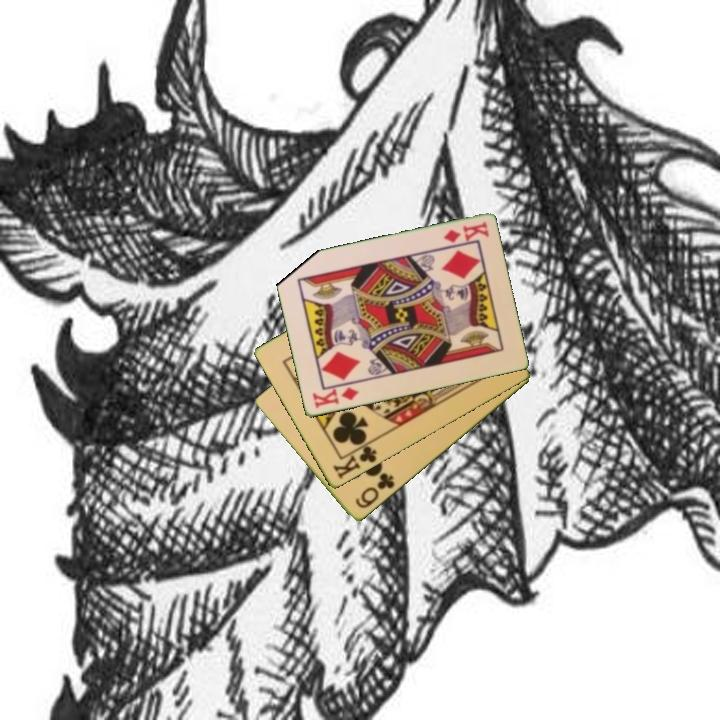6c: (352, 469, 398, 512)
Kc: (329, 438, 380, 482)
Kd: (309, 384, 361, 412), (440, 218, 491, 246)
